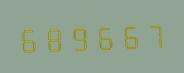eight: (42, 21, 66, 53)
nine: (68, 20, 92, 52)
seven: (143, 18, 167, 50)
six: (93, 19, 117, 52), (17, 22, 41, 54), (118, 19, 142, 51)
